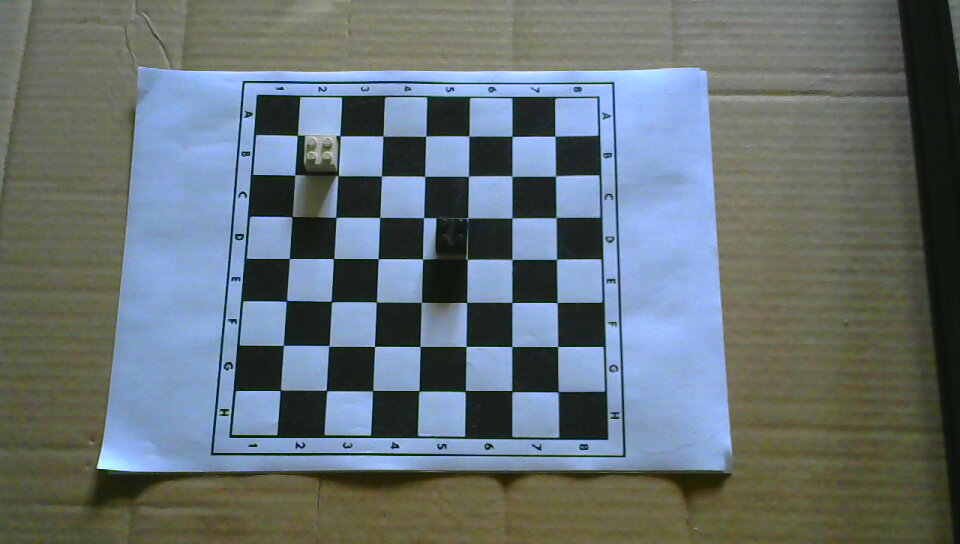bp: (435, 215, 469, 256)
wp: (302, 132, 339, 173)
